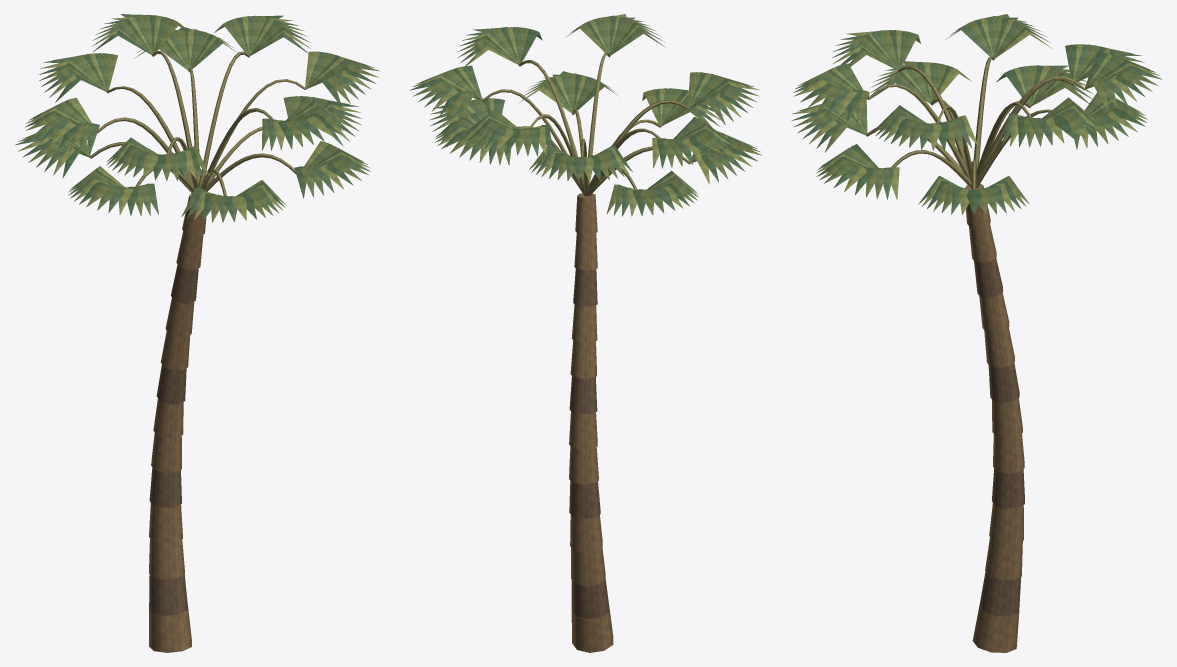
File: fan-palm-near.glb
3 views of the same model, side by side, from view 1: azimuth 30°, elevation 25°; view 2: azimuth 150°, elevation 25°; view 3: azimuth 270°, elevation 25° (orthographic). The views are drawn at different scales.
Visible parts, largest first — view 1: Crown_Foliage, Trunk_Wood; view 2: Crown_Foliage, Trunk_Wood; view 3: Crown_Foliage, Trunk_Wood.
Boxes of the visible parts, x1=… form: Crown_Foliage: x1=14, y1=14, x2=379, y2=222; Trunk_Wood: x1=90, y1=51, x2=305, y2=652; Crown_Foliage: x1=409, y1=14, x2=762, y2=216; Trunk_Wood: x1=482, y1=52, x2=690, y2=652; Crown_Foliage: x1=791, y1=14, x2=1162, y2=214; Trunk_Wood: x1=866, y1=56, x2=1085, y2=652.
Bounding box in the file's own units: 5.87 × 10.23 × 5.81.
Materials: 2 (2 with a texture image).
